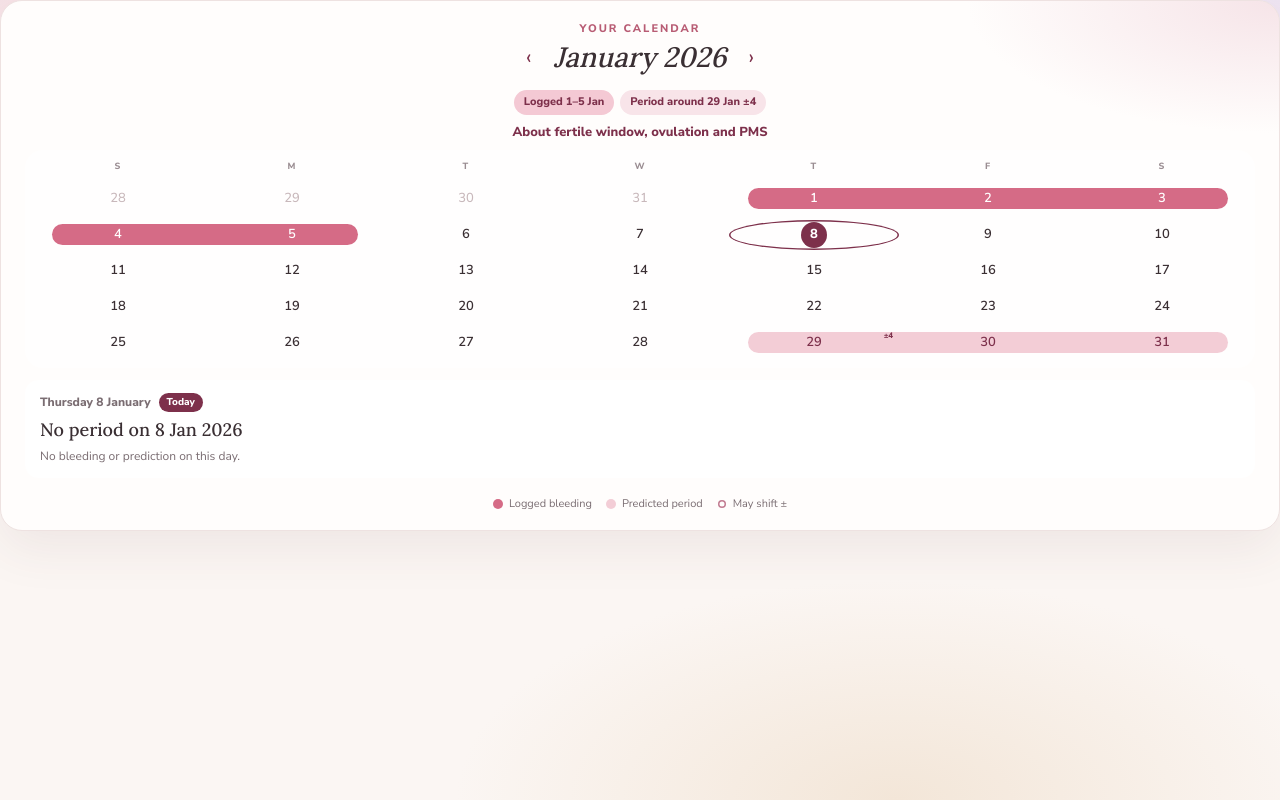
Scenario: CycleCalendar › explains a day when you tap it or a month chip
Check: the text "No period on 8 Jan 2026" is shown, box left=40, top=418, right=242, bottom=440
Check: the text "No bleeding or prediction on this day." is shown, box left=40, top=448, right=240, bottom=464
Click the cell named "15 Jan 2026" at (814, 270), box left=727, top=254, right=901, bottom=288
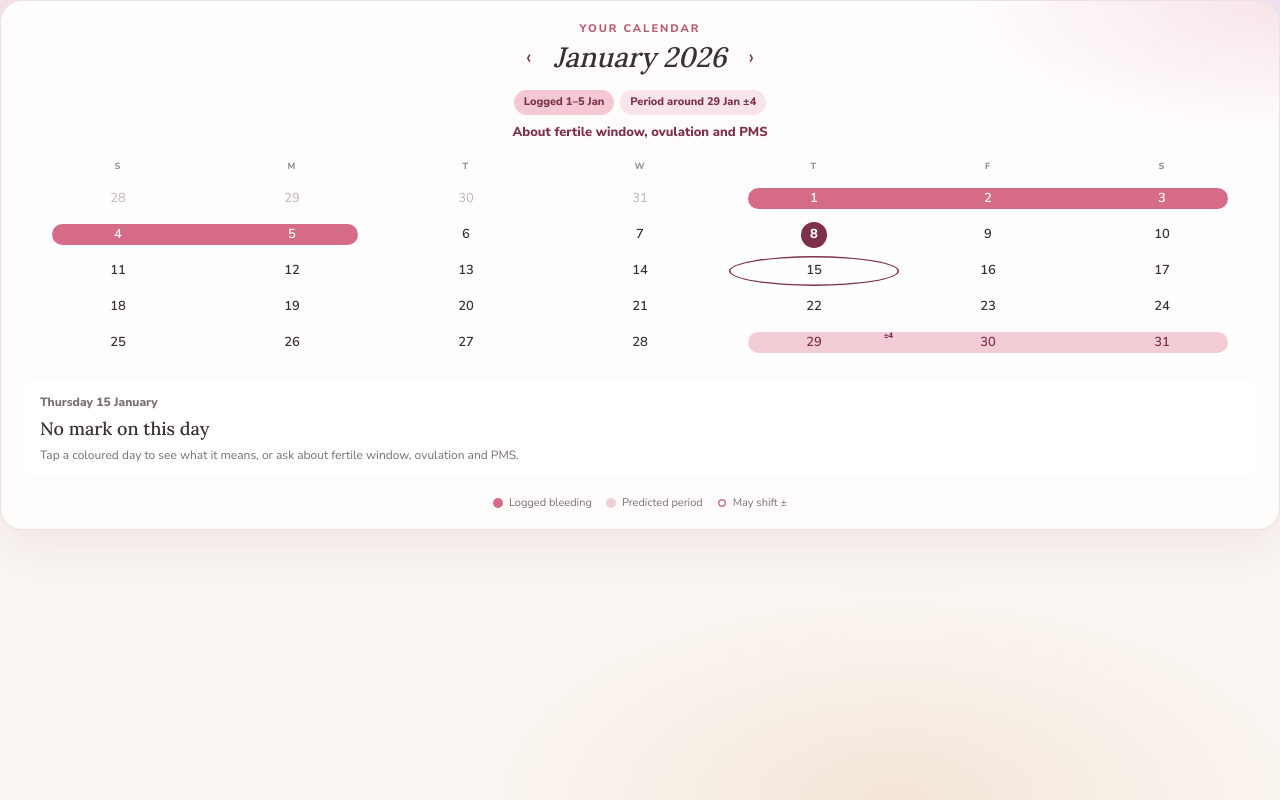
Check: the text "No mark on this day" is shown, box left=40, top=416, right=209, bottom=440
Click the button "Period around 29 Jan ±4" at (693, 102), box left=620, top=90, right=766, bottom=114
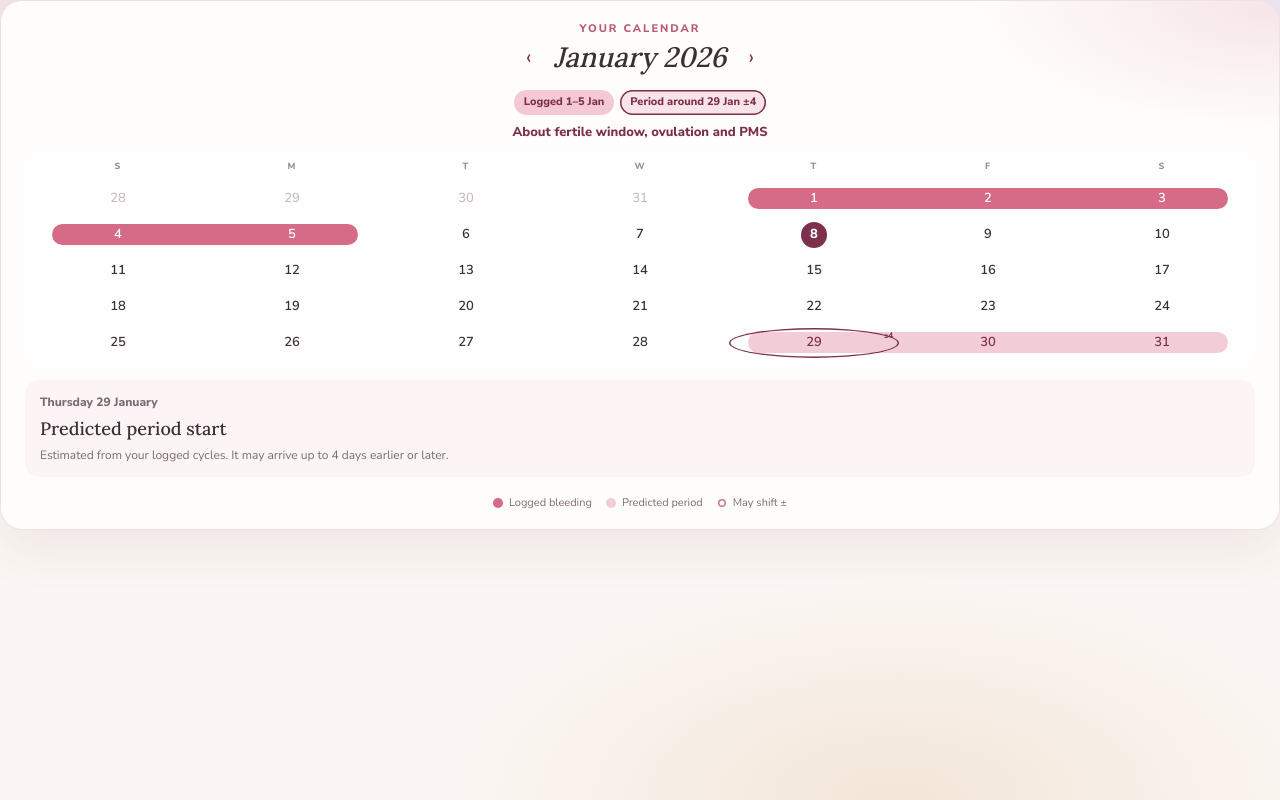
Check: the text "Predicted period start" is shown, box left=40, top=416, right=227, bottom=440
